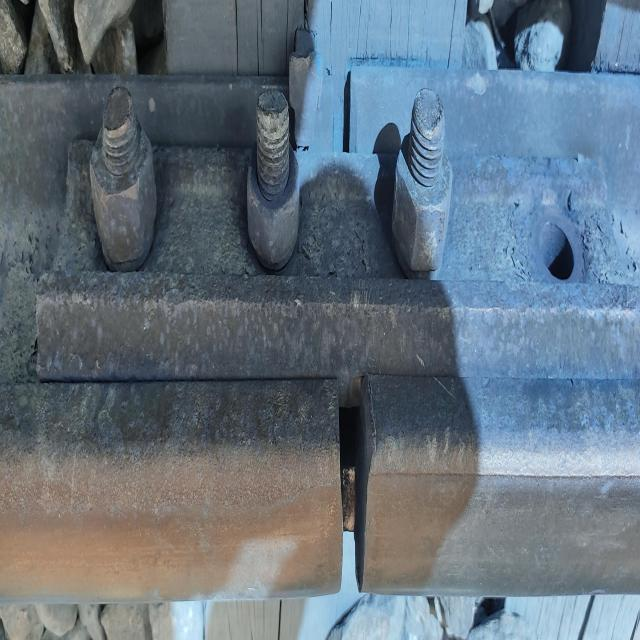Defective Joint: (61, 122, 640, 377)
